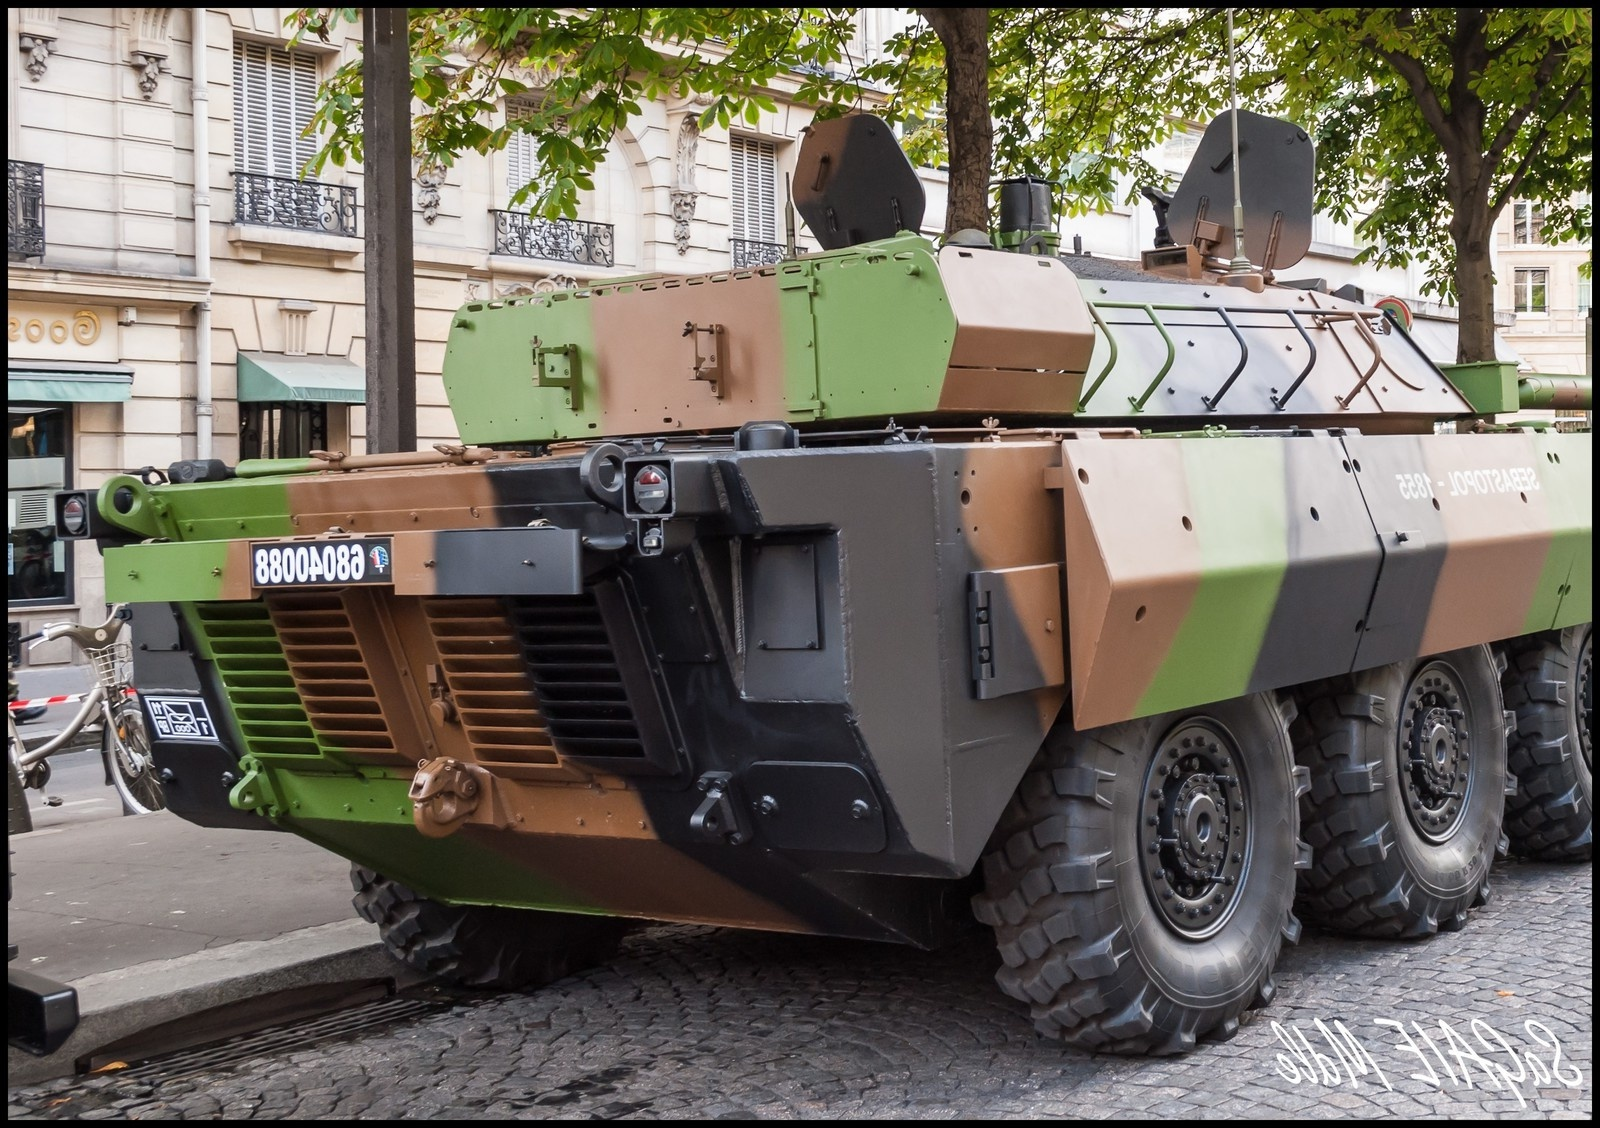license_plate: (250, 533, 406, 599)
